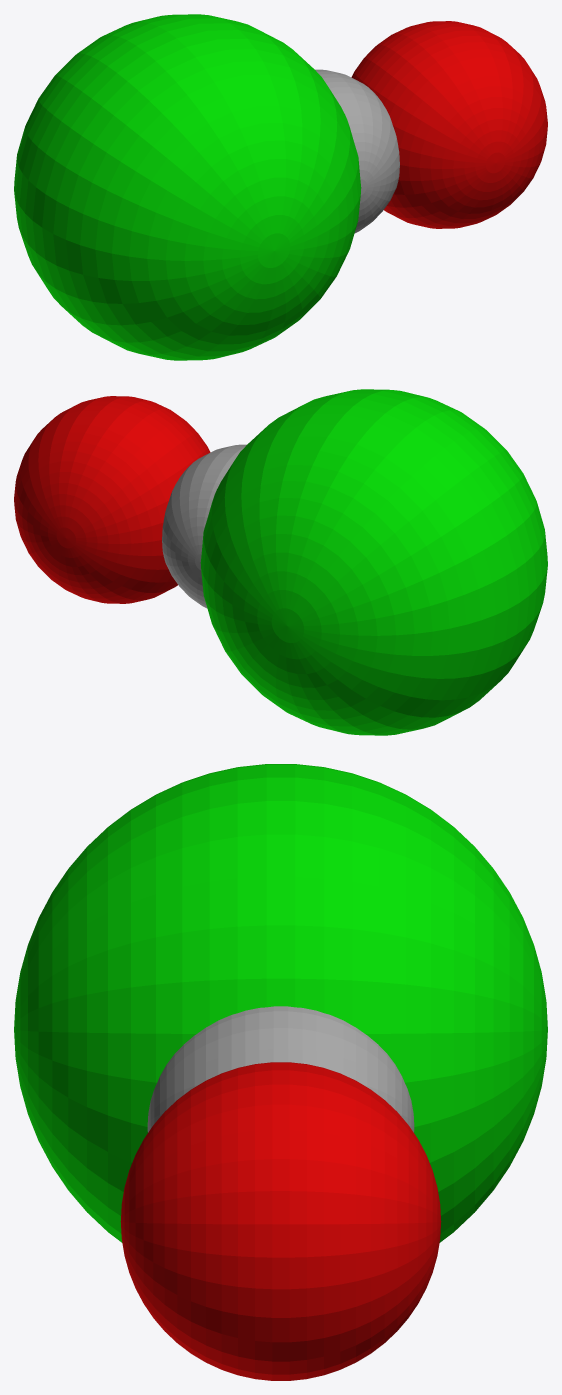
File: Sodium Hypochlorite.glb
3 views of the same model, one above another, from view 1: azimuth 30°, elevation 25°; view 2: azimuth 150°, elevation 25°; view 3: azimuth 270°, elevation 25° (orthographic). The views are drawn at different scales.
Visible parts, largest first — view 1: world; view 2: world; view 3: world.
Boxes of the visible parts, x1,y1,x2,y2 form: world: (14,14,547,360); world: (14,389,547,735); world: (14,764,547,1380).
Bounding box in the file's own units: 3.3 × 1.99 × 2.
